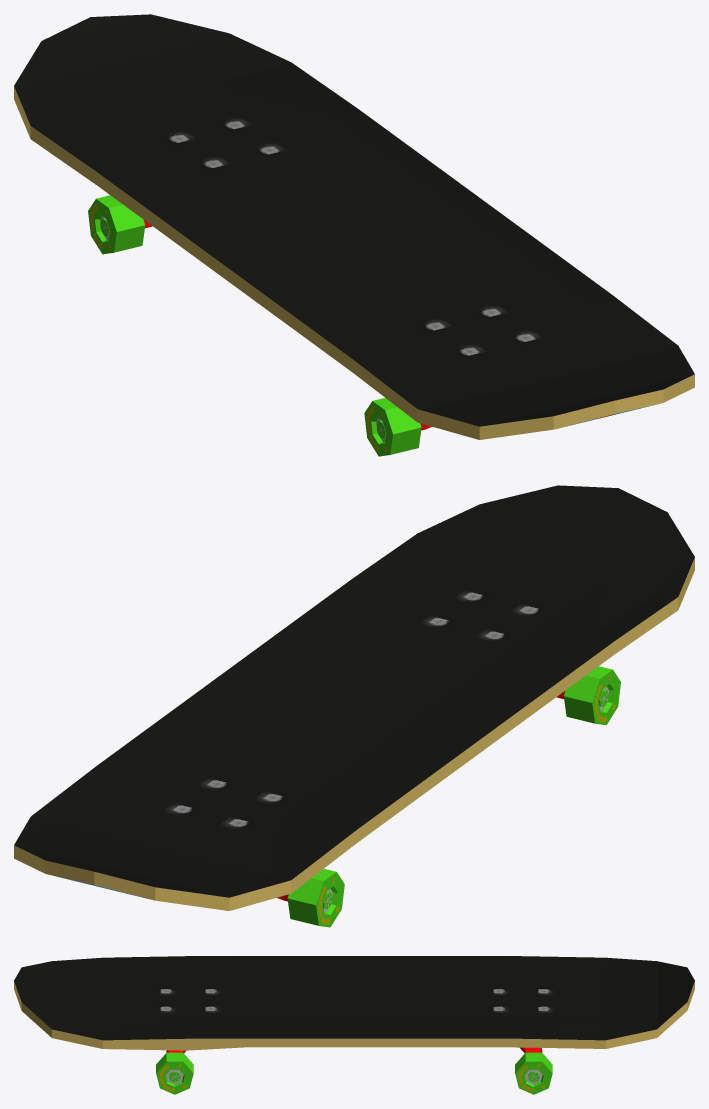
Rendered from Skateboard.obj.
3 renders of one model, top to bottom at view 1: azimuth 30°, elevation 25°; view 2: azimuth 150°, elevation 25°; view 3: azimuth 270°, elevation 25°, orthographic. The views are drawn at different scales.
Visible parts, largest first — view 1: Deck, Wheel, Wheel.1_1; view 2: Deck, Wheel.1_1, Wheel; view 3: Deck, Wheel.1, Wheel_1.
Boxes of the visible parts, x1,y1,x2,y2 form: Deck: [14, 14, 694, 439]; Wheel: [88, 195, 145, 254]; Wheel.1_1: [364, 398, 421, 456]; Deck: [14, 485, 694, 910]; Wheel.1_1: [563, 666, 620, 725]; Wheel: [287, 869, 344, 927]; Deck: [14, 956, 694, 1050]; Wheel.1: [515, 1052, 552, 1094]; Wheel_1: [156, 1052, 193, 1094].
Size of the model in its own units: 35 by 15.3 by 122.
